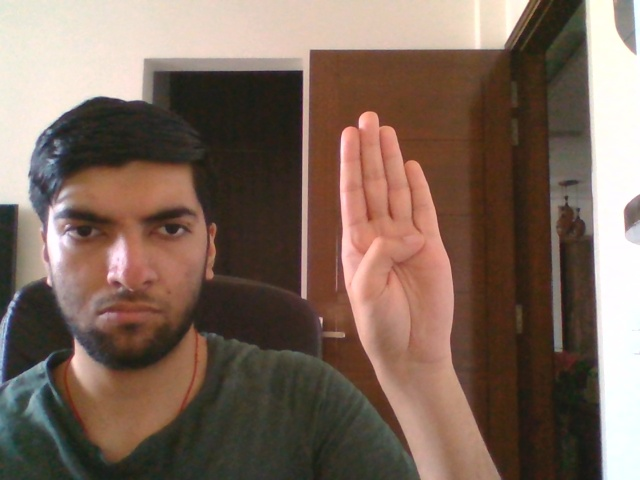LetterB: (338, 109, 456, 365)
